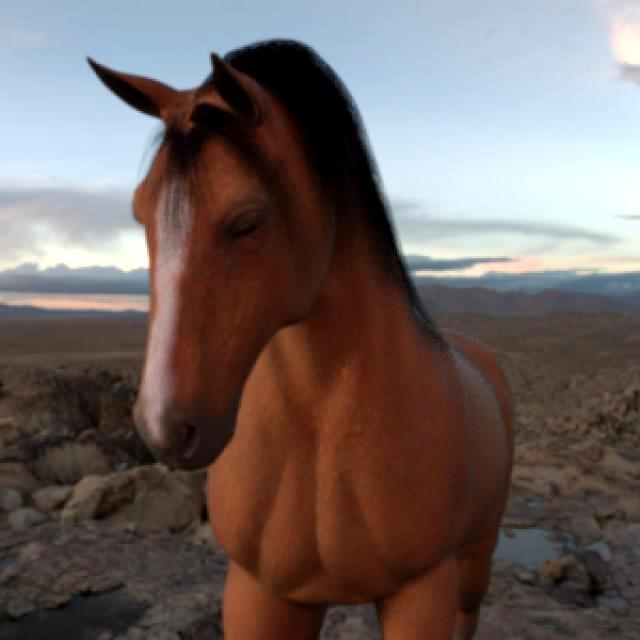horse: (89, 40, 510, 640)
